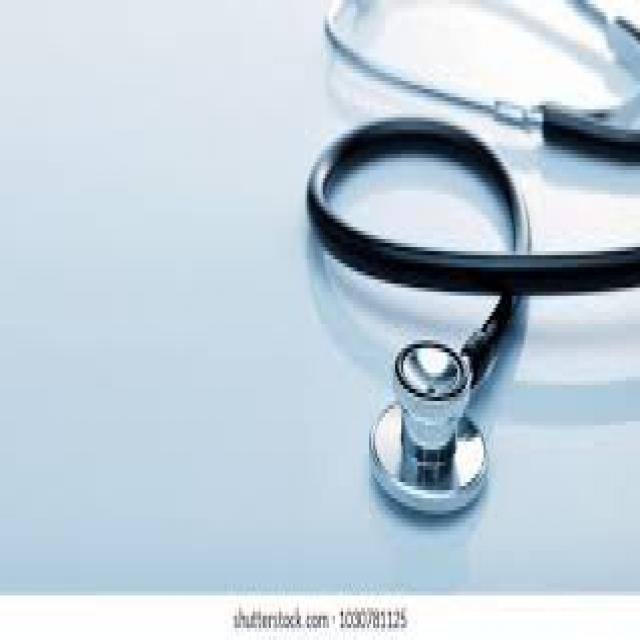stethoscope: (241, 34, 636, 584)
